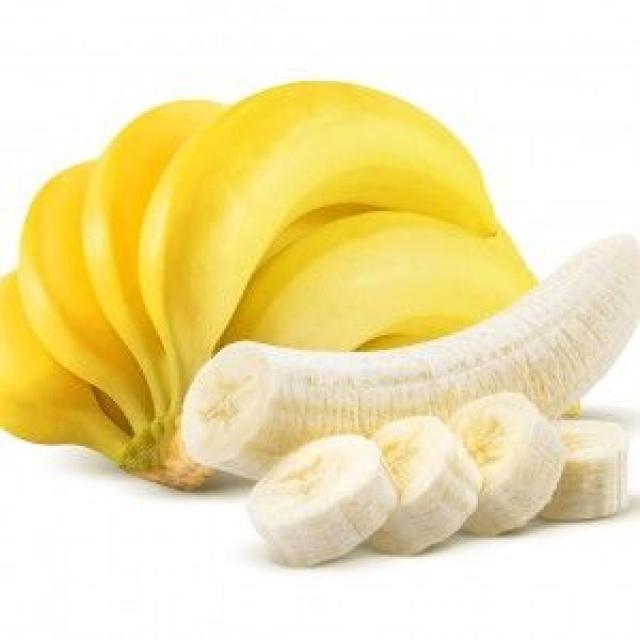banana: (141, 82, 499, 396), (182, 237, 639, 477), (84, 101, 223, 415), (224, 212, 535, 349), (18, 163, 153, 430), (0, 274, 130, 462), (248, 436, 396, 565), (448, 393, 563, 535), (370, 416, 482, 554), (540, 421, 627, 520)
